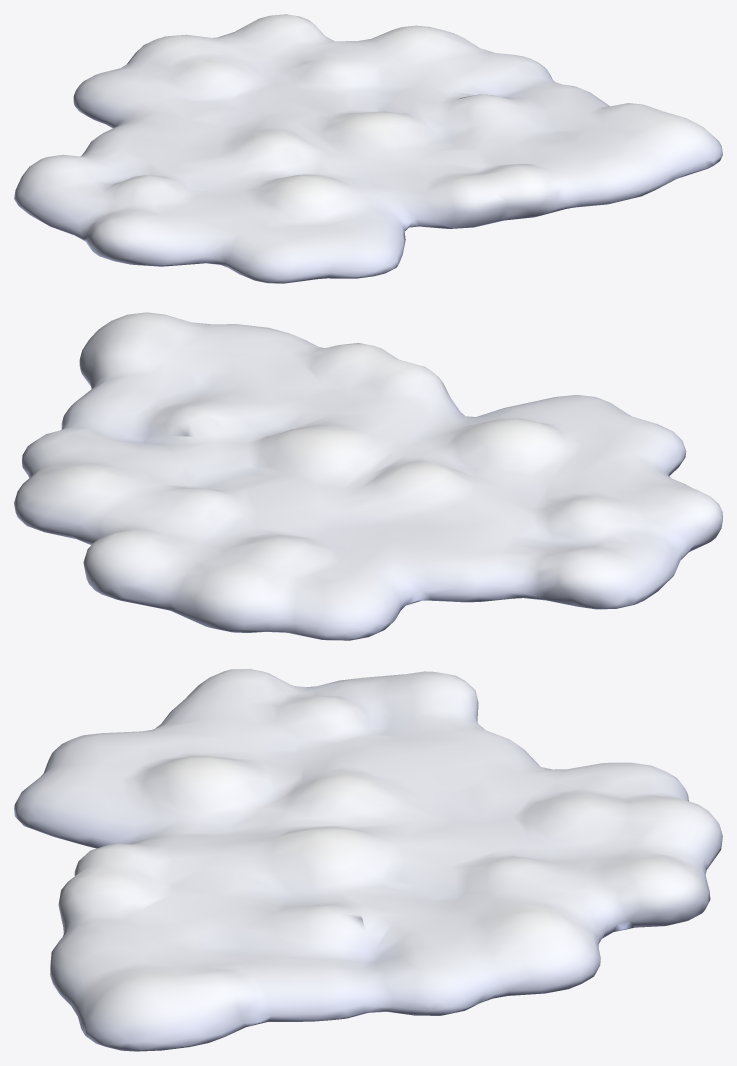
Rendered from NubeManto2.fbx.
3 renders of one model, top to bottom at view 1: azimuth 30°, elevation 25°; view 2: azimuth 150°, elevation 25°; view 3: azimuth 270°, elevation 25°, orthographic. The views are drawn at different scales.
Parts seen in each view (by area): view 1: NubeManto2; view 2: NubeManto2; view 3: NubeManto2.
Part boxes in pixels (left/top/right/bottom): NubeManto2: left=14, top=14, right=722, bottom=283; NubeManto2: left=14, top=312, right=722, bottom=640; NubeManto2: left=14, top=669, right=722, bottom=1051.
Size of the model in its own units: 760 by 48.45 by 627.
Materials: 1 (1 with a texture image).
